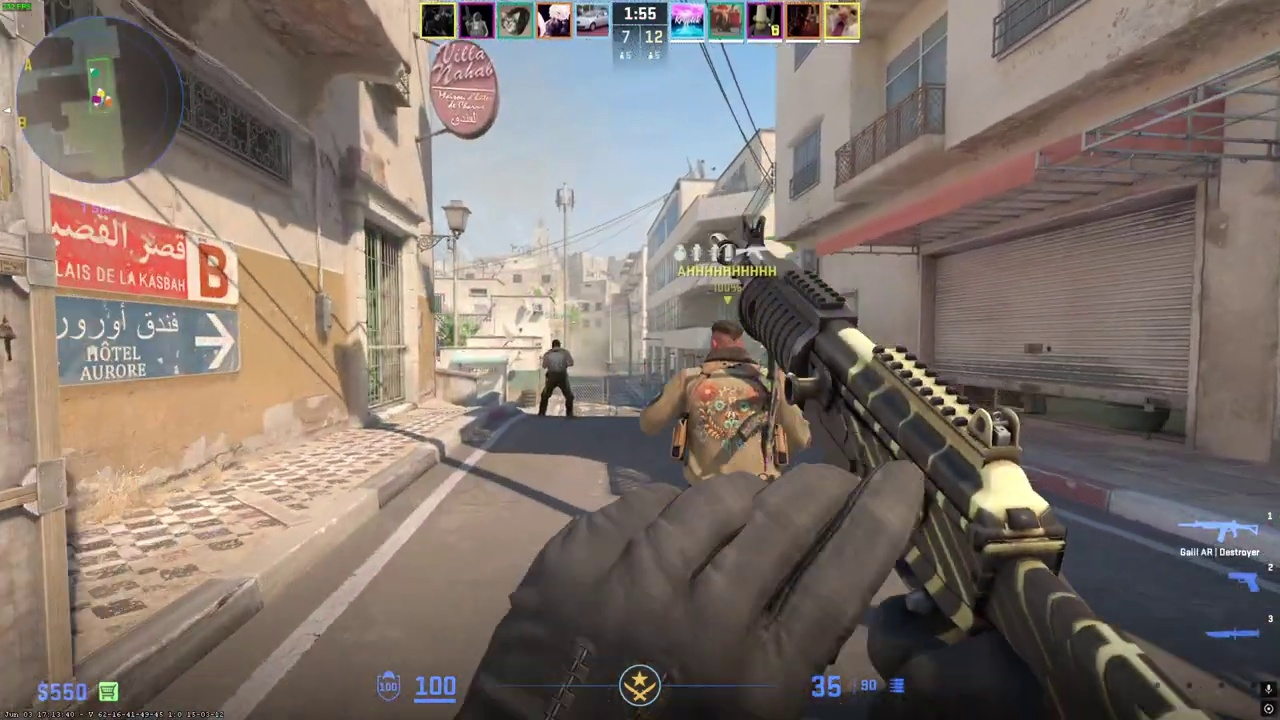Terrorist: (672, 319, 793, 482), (539, 339, 574, 417)
